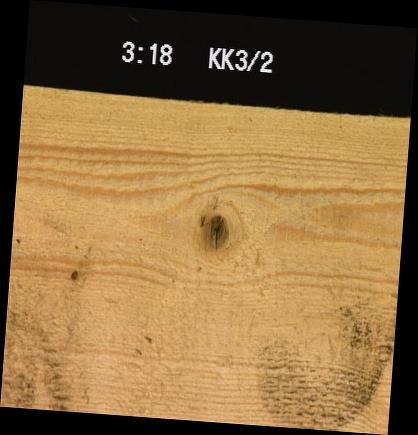small_knot: (65, 262, 82, 284)
sound_knot: (200, 212, 230, 251)
